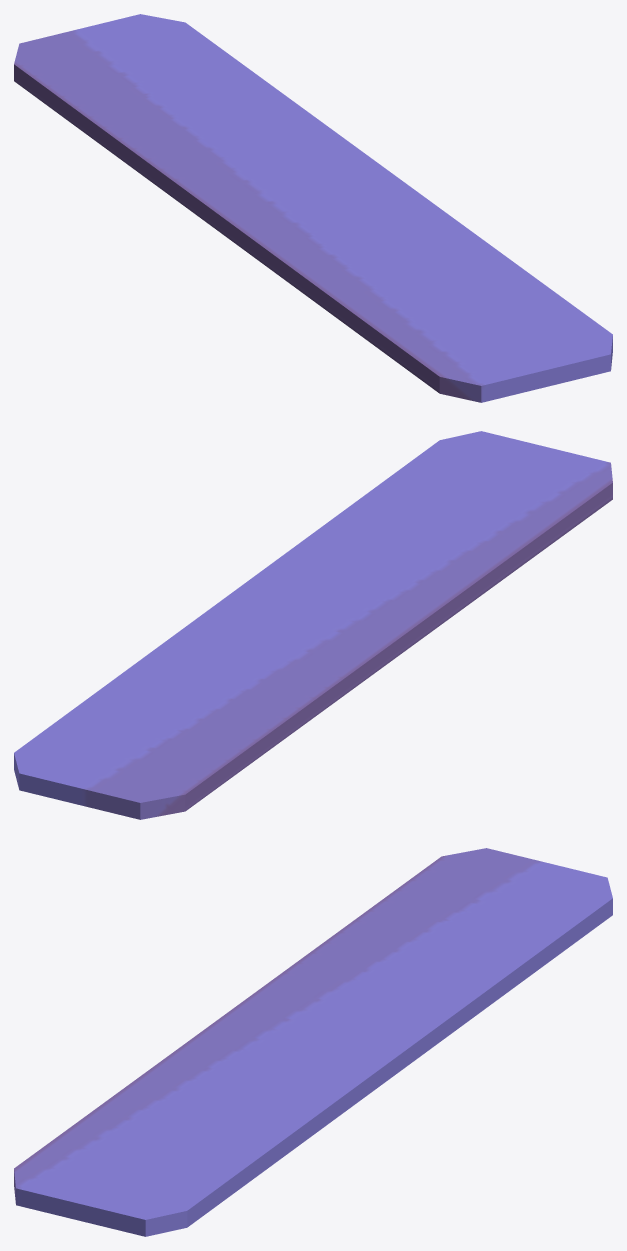
The model's file is SM_countertop.fbx.
3 views of the same model, one above another, from view 1: azimuth 30°, elevation 25°; view 2: azimuth 150°, elevation 25°; view 3: azimuth 330°, elevation 25° (orthographic).
Parts seen in each view (by area): view 1: SM_countertop; view 2: SM_countertop; view 3: SM_countertop.
Part boxes in pixels (left/top/right/bottom): SM_countertop: left=14, top=14, right=612, bottom=402; SM_countertop: left=14, top=431, right=612, bottom=819; SM_countertop: left=14, top=848, right=612, bottom=1236.
Bounding box in the file's own units: 70.5 × 6.59 × 329.
